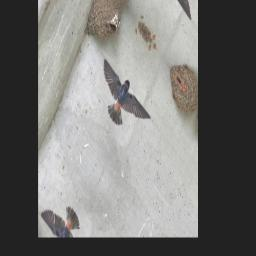Swallow: (90, 48, 155, 156)
